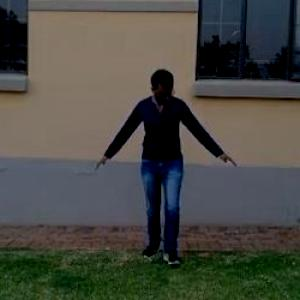land: (78, 43, 239, 283)
